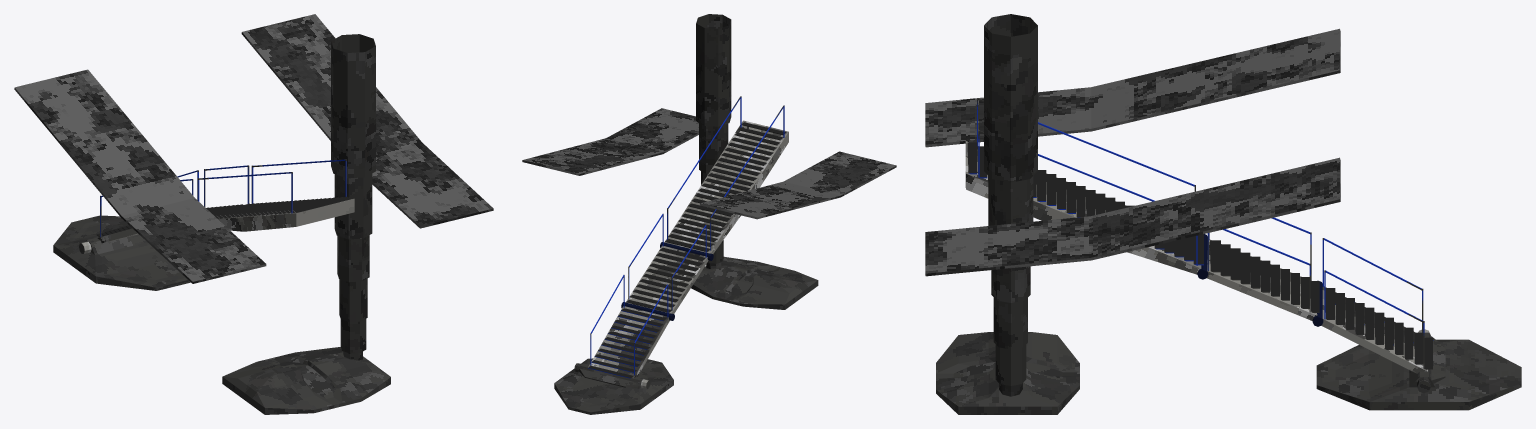
The model's file is F7FrontLandingGear.glb.
3 renders of one model, left to right at view 1: azimuth 30°, elevation 25°; view 2: azimuth 150°, elevation 25°; view 3: azimuth 270°, elevation 25°, orthographic. The views are drawn at different scales.
Visible parts, largest first — view 1: ladnign gear.001, ladnign gear, Front_Back Landing Gear, Cylinder.022, Front Landing Gear, Cylinder.016, Ramp1, Cylinder.014, stairs, Cylinder.018, Cylinder.020; view 2: ladnign gear.001, ladnign gear, Front_Back Landing Gear, Front Landing Gear, stairs, Cylinder.022, Ramp1, stairs.001, Ramp3, stairs.002, ramp2, Cylinder.016; view 3: ladnign gear, ladnign gear.001, Front Landing Gear, Front_Back Landing Gear, Cylinder.022, stairs, stairs.001, stairs.002, Ramp1, Cylinder.016, Cylinder.018, Ramp3 (+3 smaller).
Part boxes in pixels (x1,y1,x2,y2): ladnign gear.001: (14,69,266,283); ladnign gear: (241,14,493,228); Front_Back Landing Gear: (222,347,390,414); Cylinder.022: (331,34,375,178); Front Landing Gear: (53,215,190,290); Cylinder.016: (334,174,372,239); Ramp1: (218,198,354,231); Cylinder.014: (337,235,369,282); stairs: (211,196,350,218); Cylinder.018: (339,278,367,321); Cylinder.020: (340,319,366,353); ladnign gear.001: (700,151,896,219); ladnign gear: (522,108,698,175); Front_Back Landing Gear: (691,256,818,309); Front Landing Gear: (554,358,673,414); stairs: (665,122,786,252); Cylinder.022: (696,14,731,126); Ramp1: (664,120,788,253); stairs.001: (626,247,705,312); Ramp3: (588,306,669,378); stairs.002: (588,308,666,378); ramp2: (625,245,708,313); Cylinder.016: (699,123,728,173); ladnign gear: (925,157,1340,276); ladnign gear.001: (925,28,1340,147); Front Landing Gear: (1316,329,1521,410); Front_Back Landing Gear: (936,332,1079,414); Cylinder.022: (984,14,1037,182); stairs: (967,142,1203,265); stairs.001: (1210,240,1319,312); stairs.002: (1325,288,1433,369); Ramp1: (965,141,1201,274); Cylinder.016: (988,176,1033,225); Cylinder.018: (993,297,1027,349); Ramp3: (1321,286,1427,373).
Bounding box in the file's own units: 8.15 × 8.51 × 12.05.
Materials: 1 (1 with a texture image).
